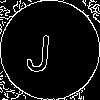J: (25, 25, 54, 73)
